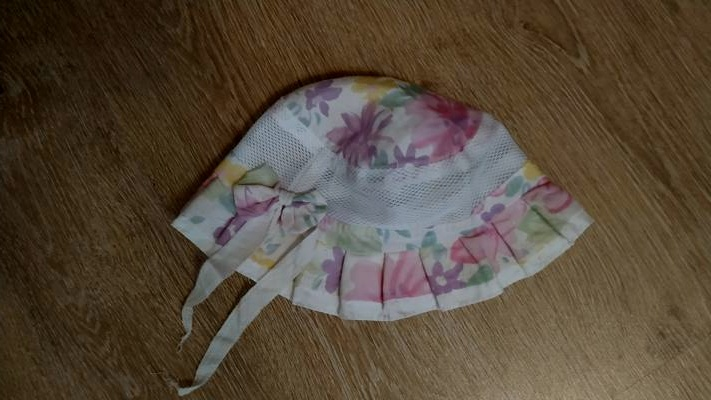Hat: (137, 48, 611, 362)
